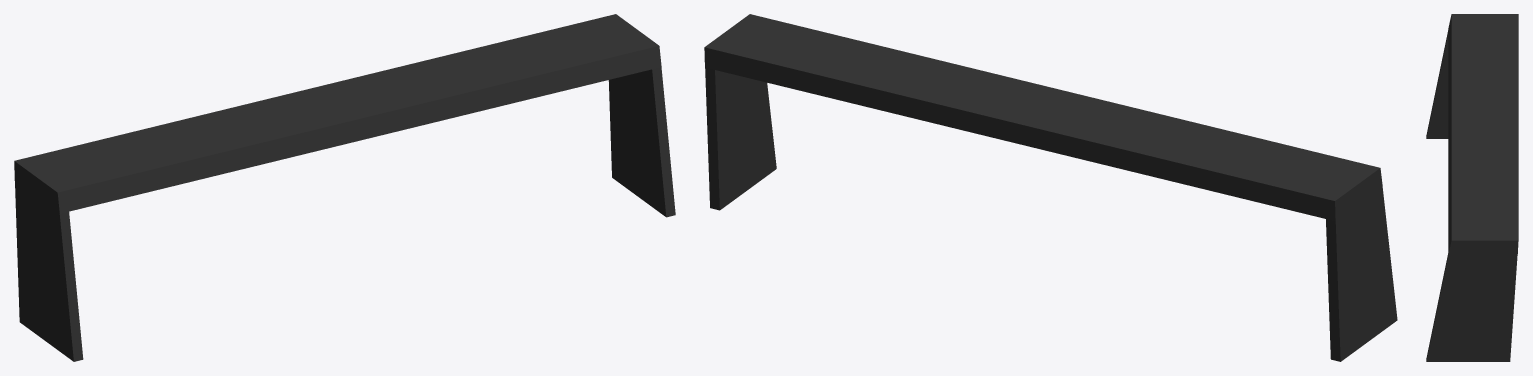
The model's file is dc_metro_roof_o13.obj.
The picture shows the model from 3 angles, left to right: view 1: azimuth 30°, elevation 25°; view 2: azimuth 150°, elevation 25°; view 3: azimuth 270°, elevation 25°; orthographic projection. The views are drawn at different scales.
Parts seen in each view (by area): view 1: part13; view 2: part13; view 3: part13.
Part boxes in pixels (x1,y1,x2,y2): part13: [14, 14, 675, 361]; part13: [704, 14, 1397, 361]; part13: [1426, 14, 1518, 361].
Bounding box in the file's own units: 4 × 1 × 0.6875.
Materials: 1 (1 with a texture image).
